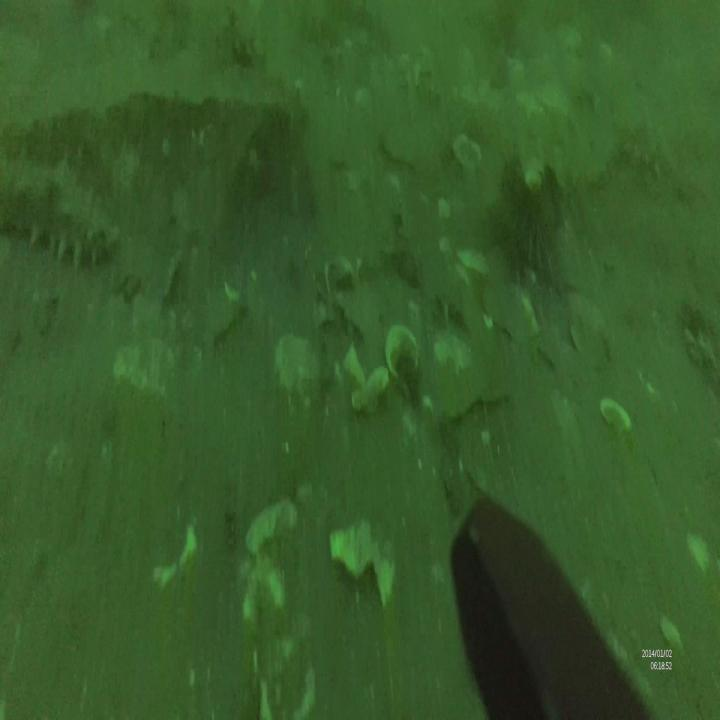holothurian: (0, 153, 124, 275)
